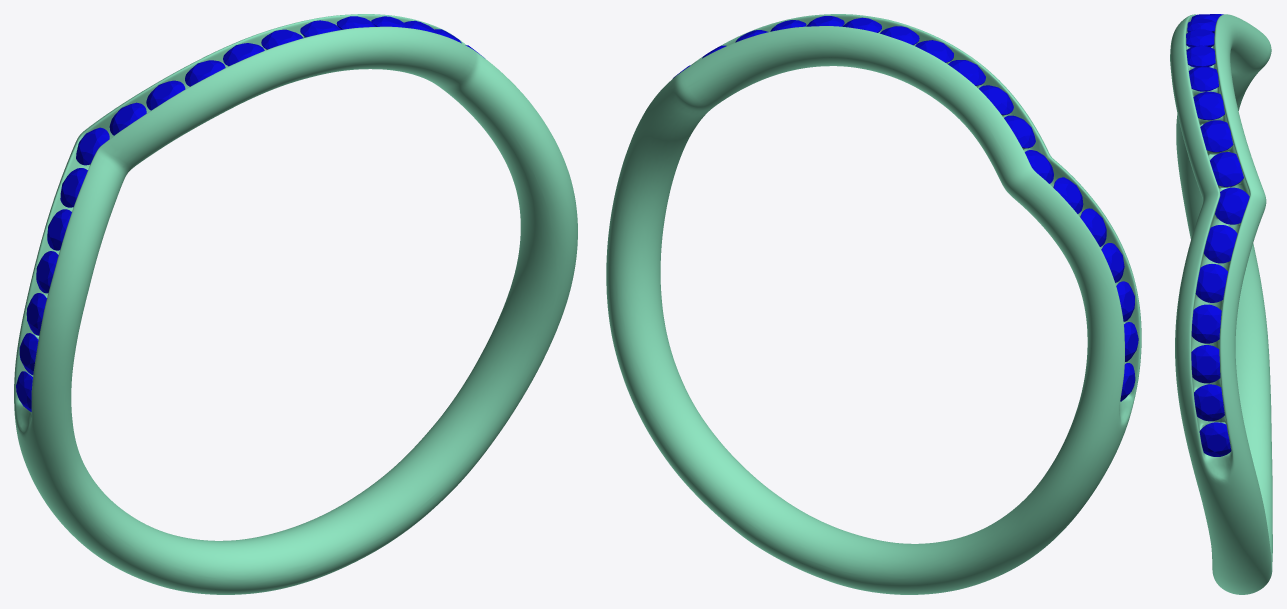
3 views of the same model, side by side, from view 1: azimuth 30°, elevation 25°; view 2: azimuth 150°, elevation 25°; view 3: azimuth 270°, elevation 25° (orthographic). The views are drawn at different scales.
Visible parts, largest first — view 1: Metal03, Diamond_Band.001; view 2: Metal03; view 3: Metal03, Diamond_Band.020, Diamond_Band.019, Diamond_Band.021, Diamond_Band.018, Diamond_Band.023, Diamond_Band, Diamond_Band.017, Diamond_Band.022, Diamond_Band.016, Diamond_Band.015, Diamond_Band.014 (+3 smaller).
Boxes of the visible parts, x1,y1,x2,y2 form: Metal03: (14,14,577,594); Diamond_Band.001: (76,127,109,165); Metal03: (606,14,1141,594); Metal03: (1170,14,1272,594); Diamond_Band.020: (1191,304,1221,343); Diamond_Band.019: (1195,264,1227,302); Diamond_Band.021: (1191,345,1220,383); Diamond_Band.018: (1204,225,1237,263); Diamond_Band.023: (1215,187,1249,224); Diamond_Band: (1194,384,1224,421); Diamond_Band.017: (1210,152,1243,186); Diamond_Band.022: (1199,422,1231,456); Diamond_Band.016: (1200,120,1233,152); Diamond_Band.015: (1193,91,1224,120); Diamond_Band.014: (1189,66,1218,91).
Bounding box in the file's own units: 20.65 × 20.74 × 3.67.
